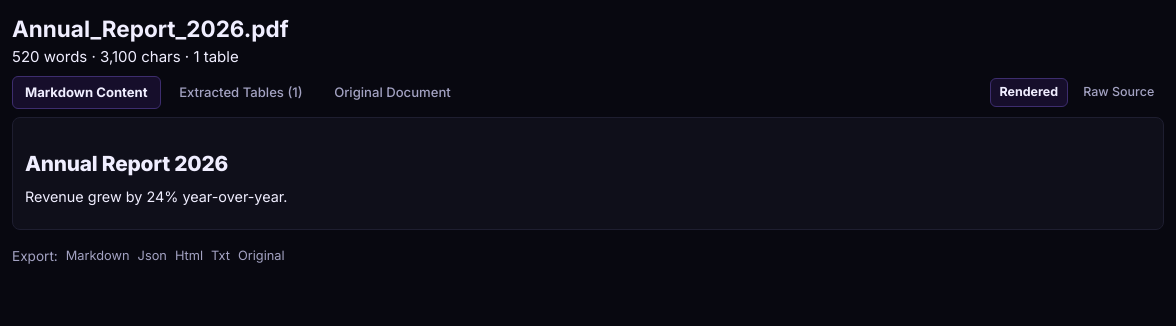
Test: DocumentPreview Accessibility and Interactions › switches to extracted tables panel when tab is clicked
Click the tab "Extracted Tables (1)": click(241, 93) [166,76,316,109]
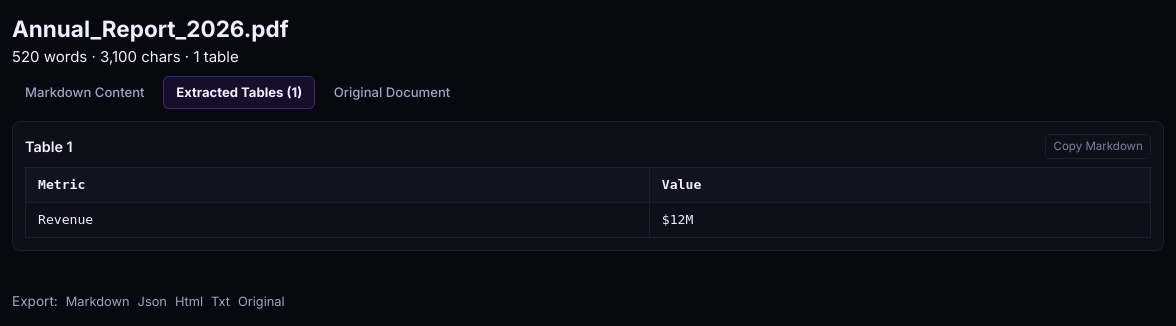
Expected: the column heading "Metric" is shown, [26,168,649,203]
Expected: the text "$12M" is shown, [649,203,1150,238]
